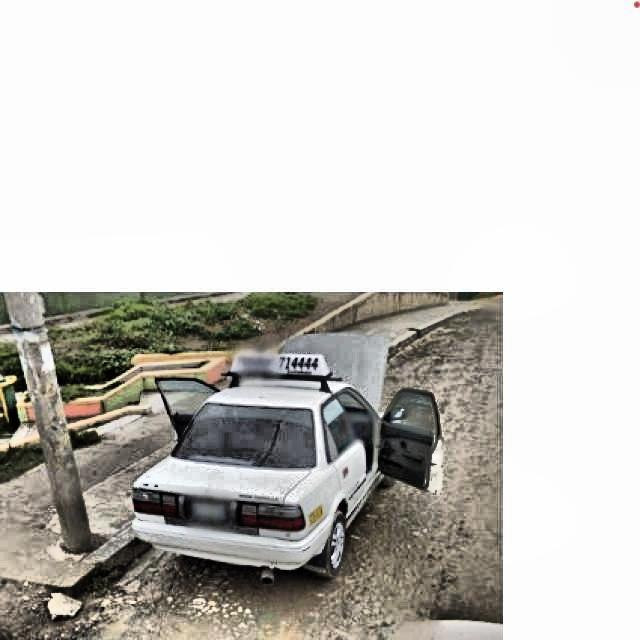carro: (134, 340, 452, 602)
